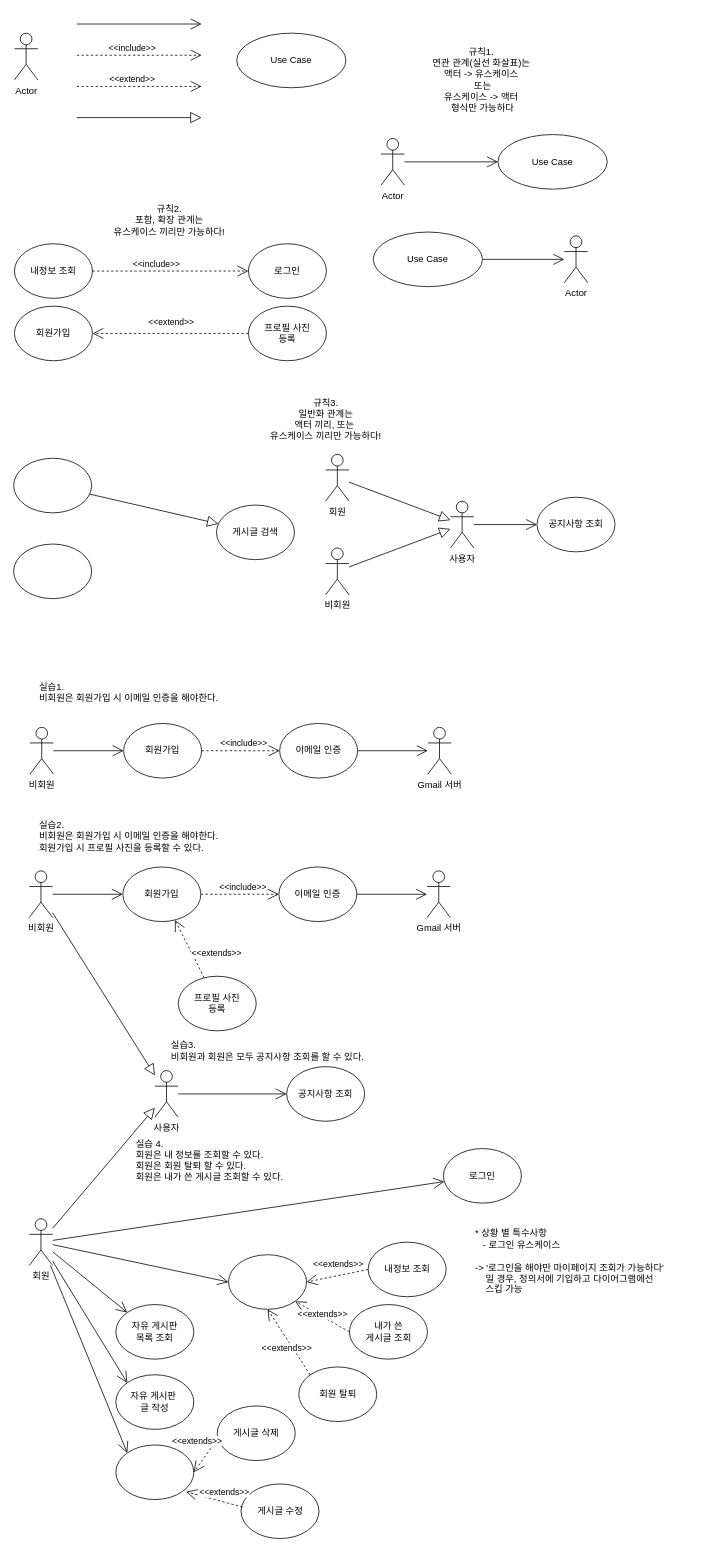
Some shapes in this 714 by 1552 pixel diagram are drawn without their labels. The shapes that lost their labels are listed below. From the top down, each one's centre as x and y in pixels, then its label:
At point (52, 485): "제목 검색".
At point (52, 571): "작성자 검색".
At point (267, 1281): "마이페이지".
At point (154, 1472): "자유 게시판 글 상세 조회".
